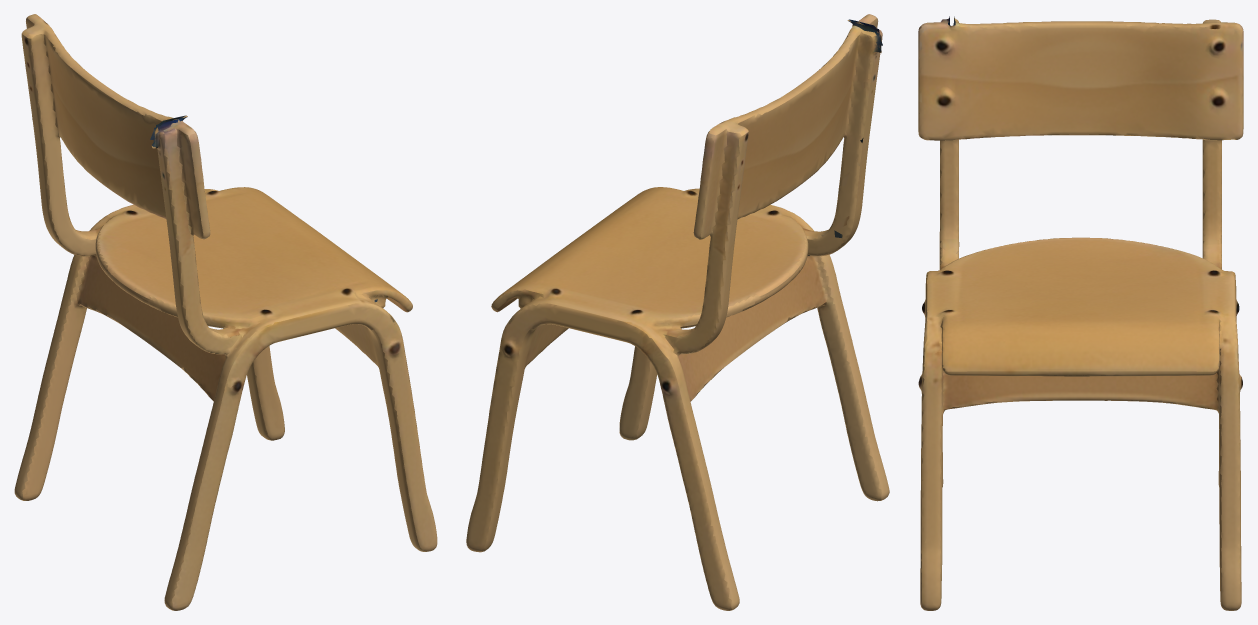
3 renders of one model, left to right at view 1: azimuth 30°, elevation 25°; view 2: azimuth 150°, elevation 25°; view 3: azimuth 270°, elevation 25°, orthographic.
Parts seen in each view (by area): view 1: tmp8stcfol3.ply; view 2: tmp8stcfol3.ply; view 3: tmp8stcfol3.ply.
Boxes of the visible parts, left/top/right/bottom form: tmp8stcfol3.ply: left=14, top=14, right=437, bottom=610; tmp8stcfol3.ply: left=466, top=14, right=889, bottom=610; tmp8stcfol3.ply: left=918, top=16, right=1243, bottom=610.
Bounding box in the file's own units: 0.9354 × 1.58 × 0.9818.
Materials: 1 (1 with a texture image).
